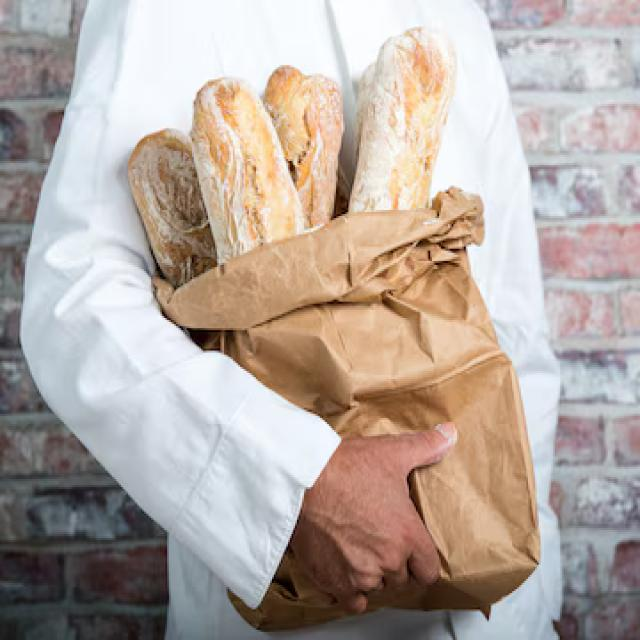Baguette: (189, 79, 309, 263), (348, 27, 455, 211)
